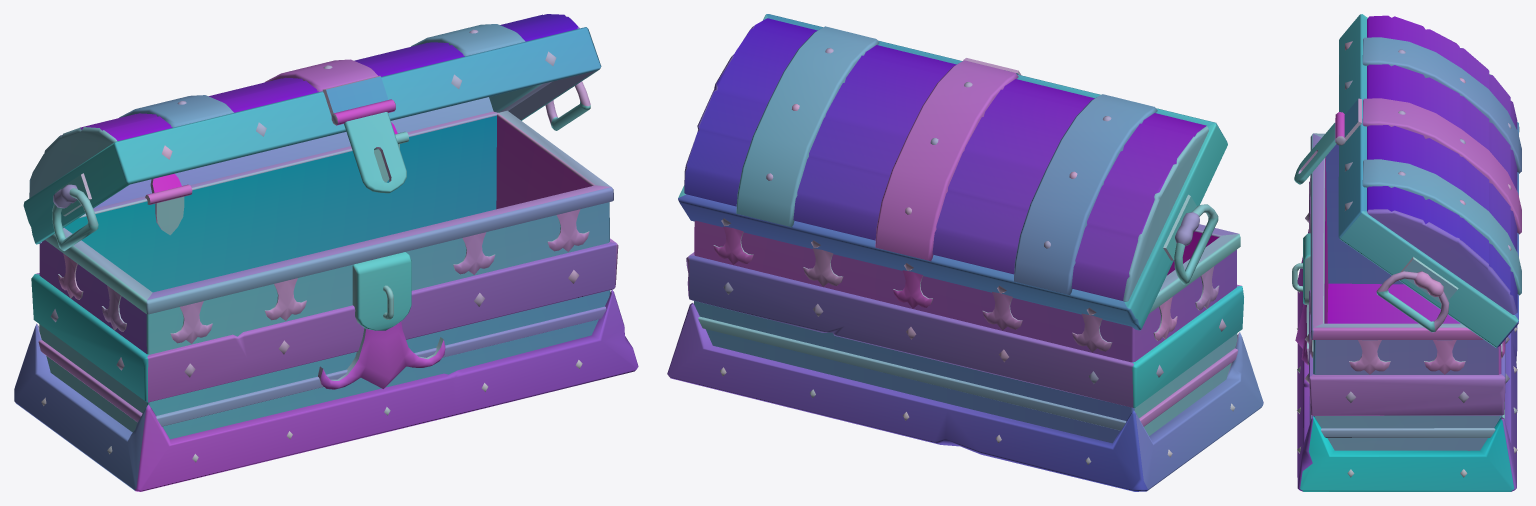
3 views of the same model, side by side, from view 1: azimuth 30°, elevation 25°; view 2: azimuth 150°, elevation 25°; view 3: azimuth 270°, elevation 25° (orthographic). The views are drawn at different scales.
Visible parts, largest first — view 1: SM_LimestoneLarge_02_LOD0; view 2: SM_LimestoneLarge_02_LOD0; view 3: SM_LimestoneLarge_02_LOD0.
Boxes of the visible parts, x1=… form: SM_LimestoneLarge_02_LOD0: x1=14, y1=14, x2=638, y2=491; SM_LimestoneLarge_02_LOD0: x1=667, y1=14, x2=1263, y2=491; SM_LimestoneLarge_02_LOD0: x1=1292, y1=14, x2=1521, y2=491.
Bounding box in the file's own units: 1.85 × 1.13 × 0.845.
